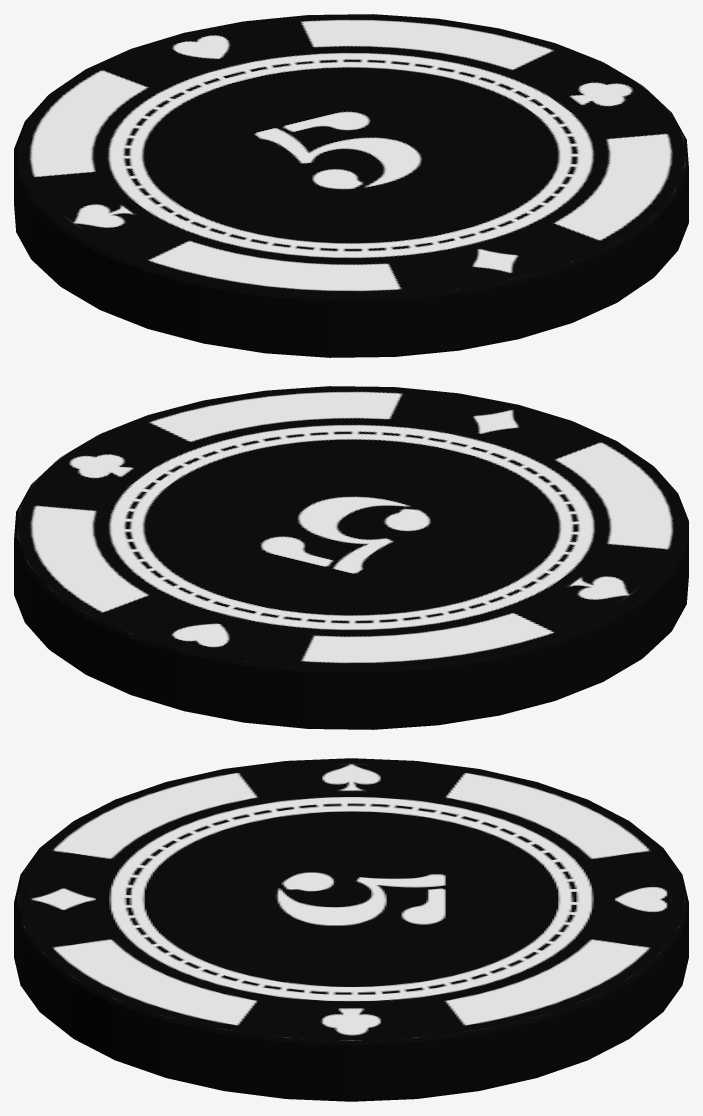
File: Coin5.glb
3 renders of one model, top to bottom at view 1: azimuth 30°, elevation 25°; view 2: azimuth 150°, elevation 25°; view 3: azimuth 270°, elevation 25°, orthographic.
Visible parts, largest first — view 1: Cylindre; view 2: Cylindre; view 3: Cylindre.
Part boxes in pixels (<box>): Cylindre: <box>14,14,688,357</box>; Cylindre: <box>14,386,688,729</box>; Cylindre: <box>14,758,688,1101</box>.
Bounding box in the file's own units: 2 × 0.2 × 2.
Materials: 2 (1 with a texture image).
